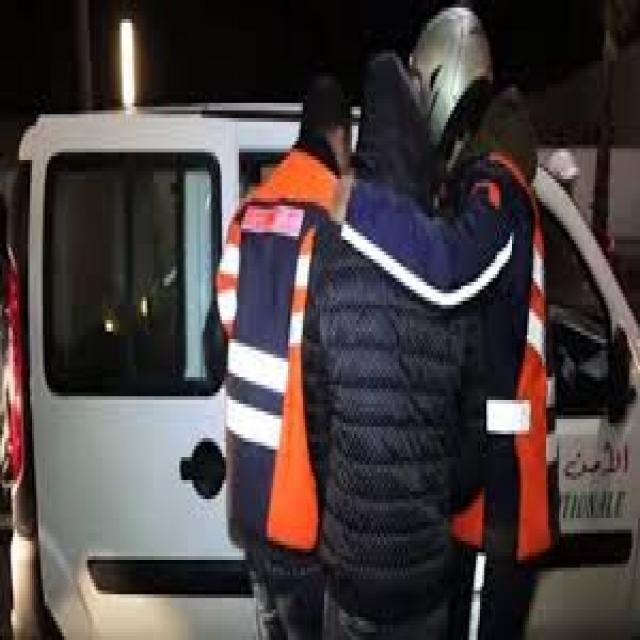police: (13, 110, 640, 640)
